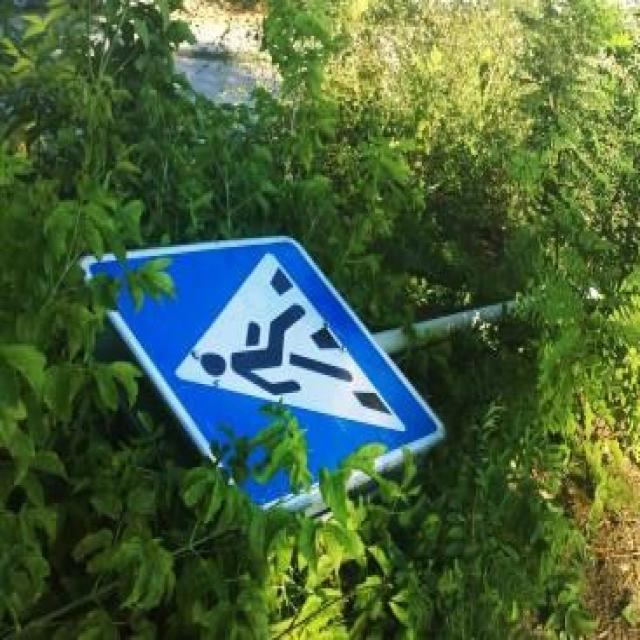obstructed_road_sign: (84, 238, 444, 506)
